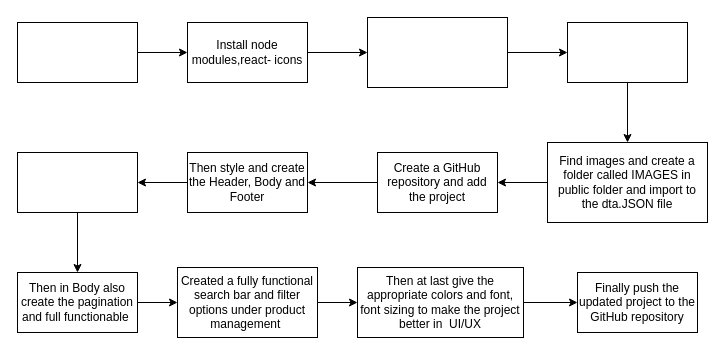
Some shapes in this 725 by 355 pixel diagram are drawn without their labels. Each missing label, with the box of its shape:
Create a folder components and open 3 JSX files inside that Header, Body ,Footer: (366, 16, 508, 88)
Create a JSON file called data in the SRC folder: (566, 22, 688, 82)
Create React App: (16, 22, 138, 82)
In Body import the data.JSON file and map the products that are created: (16, 152, 138, 212)
